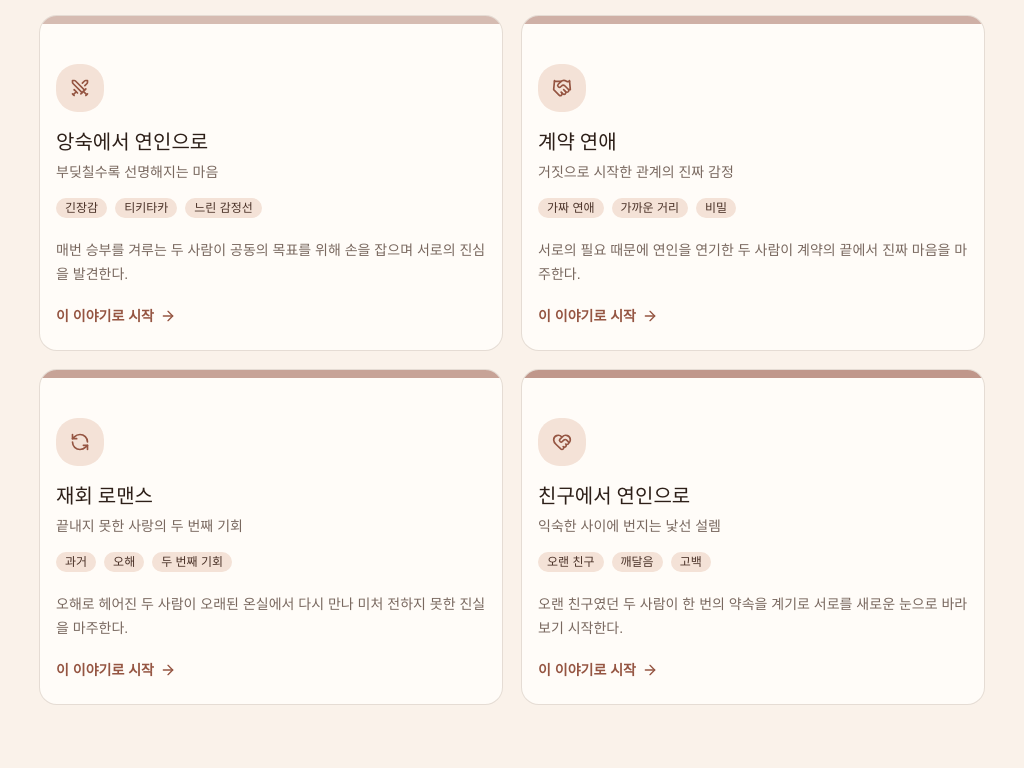
Scenario: core writing journey › opens the workspace identified by the project creation response
(page scrolled)
Click the link with aria-label "재회 로맨스 선택".
click(271, 537)  # box x1=40 y1=370 x2=502 y2=704
(page scrolled)
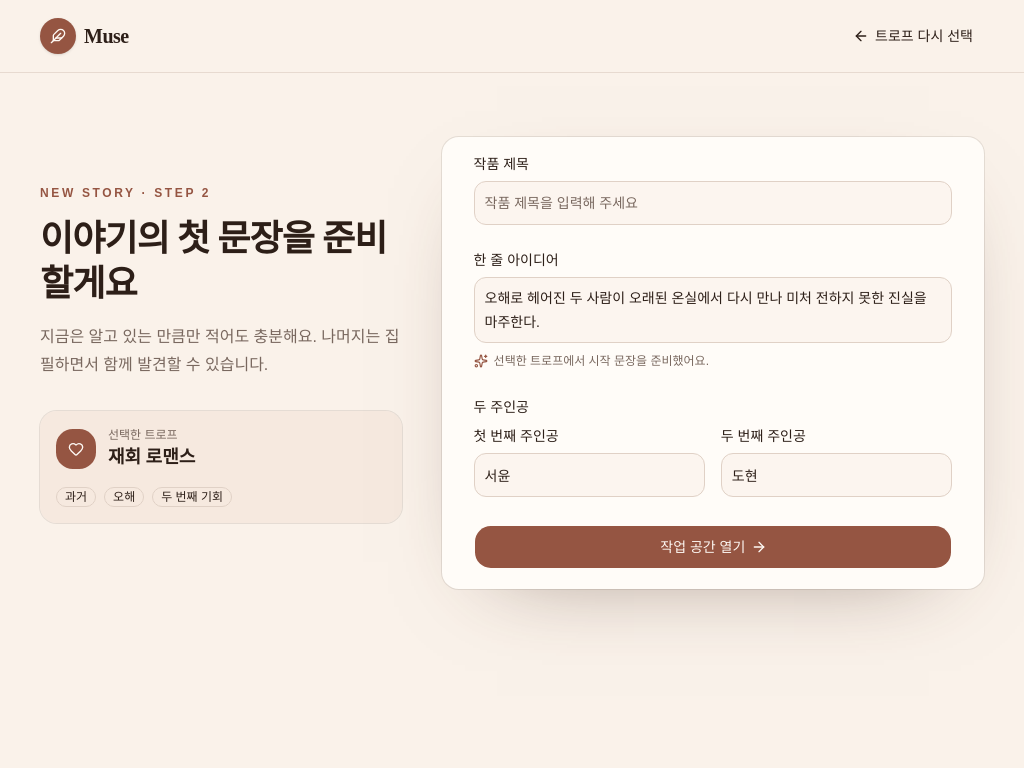
Check: the heading "이야기의 첫 문장을 준비할게요" is shown, box x1=40 y1=217 x2=402 y2=307
Type "달빛 아래 다시" into the field labelled "작품 제목".
click(713, 203); type("달빛 아래 다시")  # box x1=474 y1=181 x2=952 y2=225
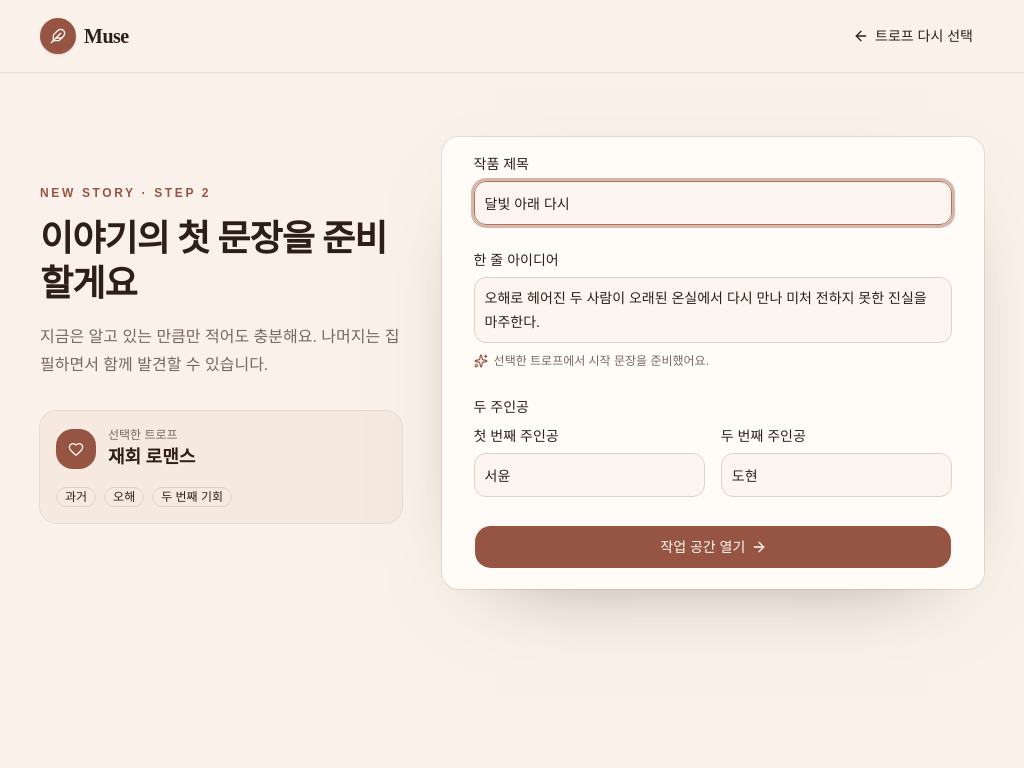
Replace the text in the field labelled "첫 번째 주인공" with "유진" at (589, 475), box x1=474 y1=453 x2=705 y2=497
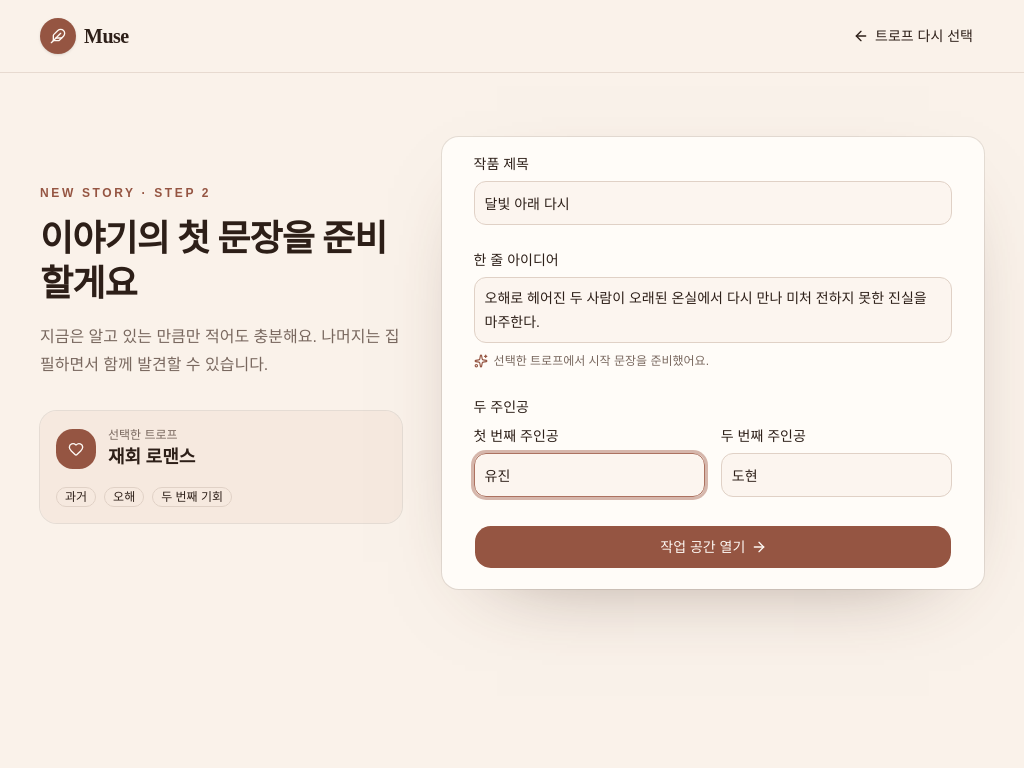
Replace the text in the field labelled "두 번째 주인공" with "태오" at (836, 475), box x1=721 y1=453 x2=952 y2=497
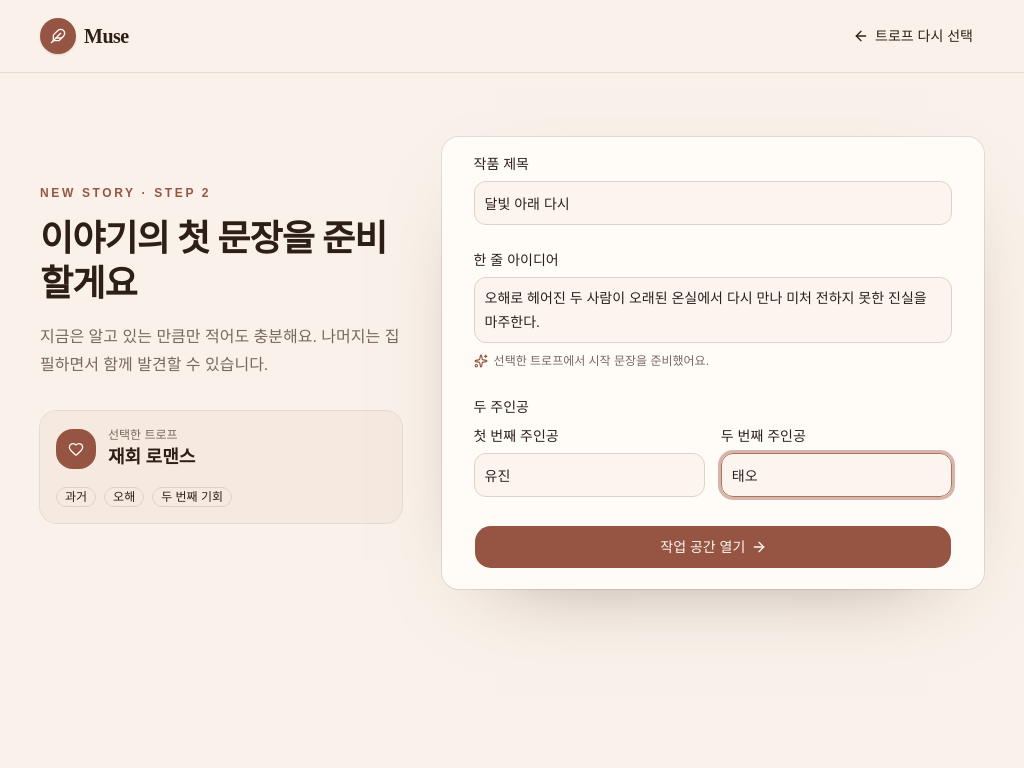
Click the button "작업 공간 열기".
click(713, 547)  # box x1=474 y1=525 x2=952 y2=569
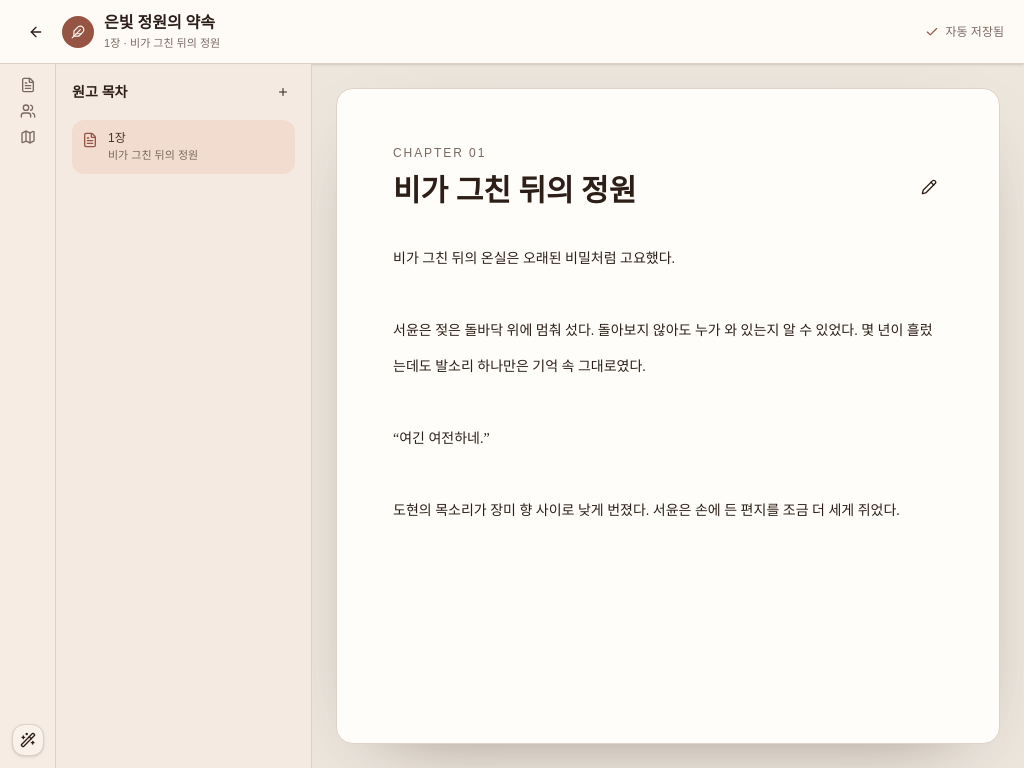
Check: the heading "은빛 정원의 약속" is shown, box x1=104 y1=11 x2=220 y2=35
Check: the text box named "원고 본문" is shown, box x1=393 y1=241 x2=943 y2=663
